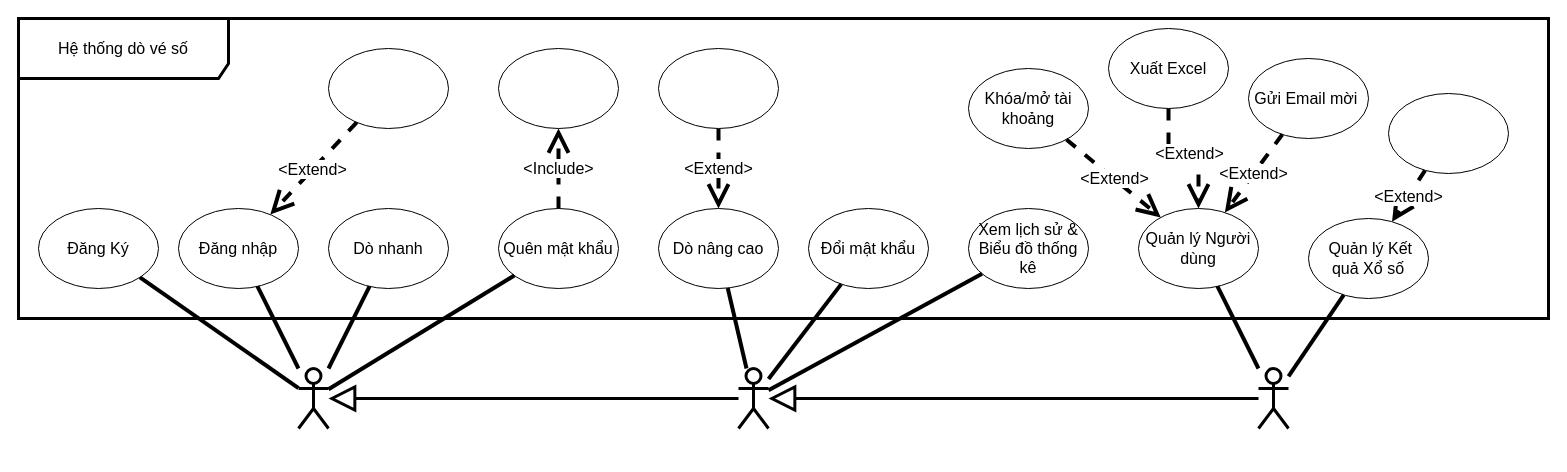
Some shapes in this 1567 by 472 pixel diagram are drawn without their labels. The shapes that lost their labels are listed below. From the top down, each one's centre as x and y in pixels, then its label:
At point (388, 88): "Đăng nhập MXH (Google, facebook)".
At point (558, 88): "Gửi OTP".
At point (718, 88): "Chia sẻ kết quả MXH".
At point (1448, 133): "Công bố vé dò".
At point (313, 398): "NO _USER".
At point (753, 398): "USER".
At point (1273, 398): "ADMIN".
